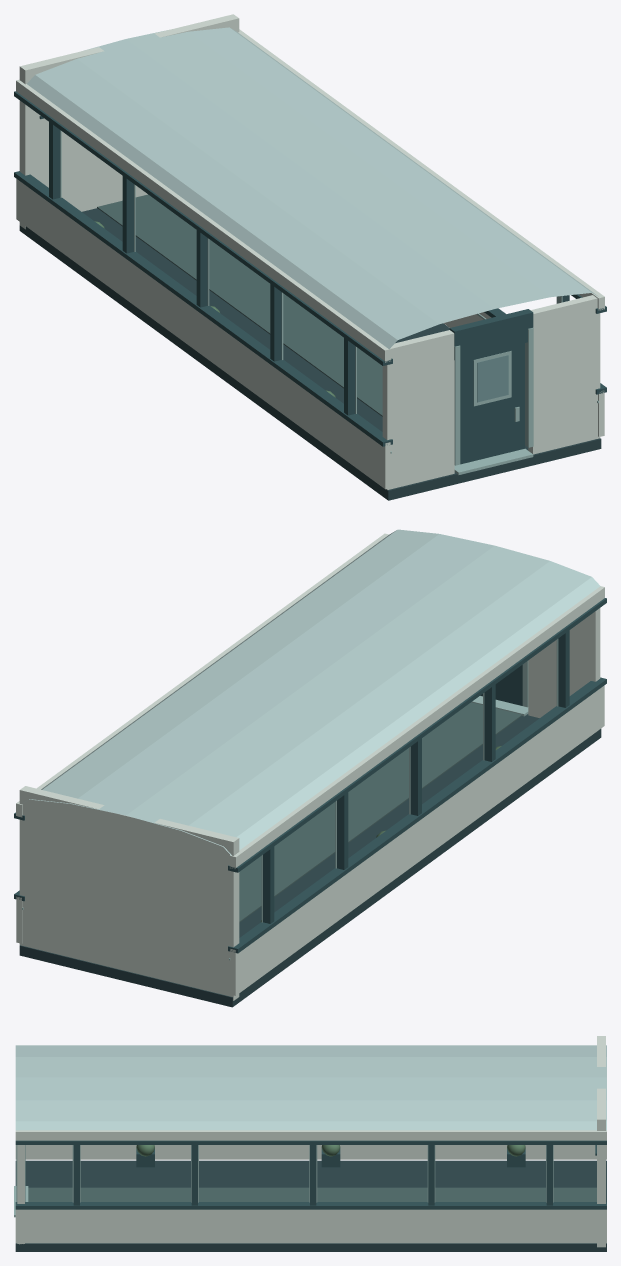
Rendered from carriage_panorama.glb.
3 views of the same model, one above another, from view 1: azimuth 30°, elevation 25°; view 2: azimuth 150°, elevation 25°; view 3: azimuth 270°, elevation 25° (orthographic). The views are drawn at different scales.
Parts seen in each view (by area): view 1: Faceted curved ceiling, Vestibule side panel (×2), Lower side wall, Open aisle runner, Full width floor, Upper side wall (×2), Closed end wall, Continuous window sill, Sliding door panel, Window pillar (×5), Window header, Vestibule lintel (+5 smaller); view 2: Faceted curved ceiling, Closed end wall, Lower side wall, Open aisle runner, Full width floor, Upper side wall (×2), Continuous window sill, Window pillar (×5), Vestibule side panel, End wall roof cap, Window header, Sliding door panel; view 3: Faceted curved ceiling, Lower side wall (×2), Full width floor, Open aisle runner, Upper side wall, Continuous window sill, Window header, Window pillar (×5), End wall roof cap, Closed end wall, Vestibule side panel.
Part boxes in pixels (x1,y1,x2,y2): Faceted curved ceiling: (27,27,598,349); Vestibule side panel (×2): (382,295,600,489); Lower side wall: (16,179,390,489); Open aisle runner: (97,194,382,416); Full width floor: (19,208,601,500); Upper side wall (×2): (16,29,604,362); Closed end wall: (19,23,239,229); Continuous window sill: (14,171,392,446); Sliding door panel: (460,343,524,464); Window pillar (×5): (49,122,355,415); Window header: (14,91,392,365); Vestibule lintel: (449,309,533,359); Faceted curved ceiling: (29,529,600,855); Closed end wall: (19,795,239,1000); Lower side wall: (230,685,604,995); Open aisle runner: (239,702,522,922); Full width floor: (19,714,601,1007); Upper side wall (×2): (16,533,604,868); Continuous window sill: (228,677,606,953); Window pillar (×5): (263,630,569,923); Vestibule side panel: (528,608,600,717); End wall roof cap: (19,786,239,853); Window header: (228,598,606,872); Sliding door panel: (480,665,522,705); Faceted curved ceiling: (15,1045,606,1130); Lower side wall (×2): (15,1145,606,1243); Full width floor: (15,1160,606,1251); Open aisle runner: (28,1187,596,1201); Upper side wall: (15,1130,606,1140); Continuous window sill: (15,1202,606,1209); Window header: (15,1140,606,1144); Window pillar (×5): (73,1145,552,1205); End wall roof cap: (597,1036,605,1128); Closed end wall: (597,1124,605,1247); Vestibule side panel: (17,1145,24,1244).
Bounding box in the file's own units: 5.26 × 3.72 × 15.04.
